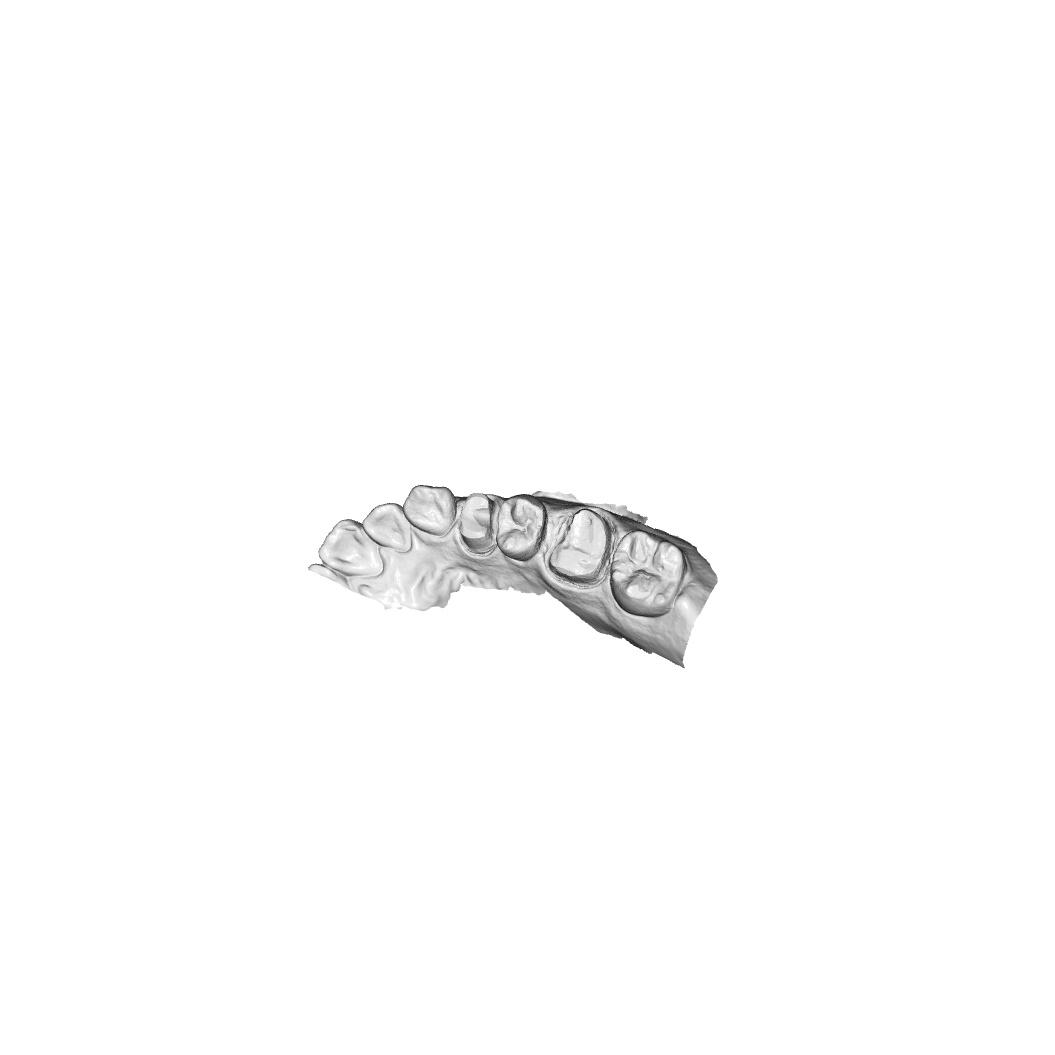canine: (400, 482, 457, 538)
crown: (545, 504, 615, 588), (455, 491, 497, 556)
incisor: (315, 517, 386, 581), (360, 501, 415, 554)
molar: (607, 527, 688, 619)
premolar: (495, 491, 542, 565)
